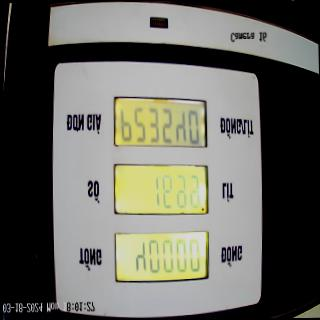screen: (110, 92, 212, 286)
